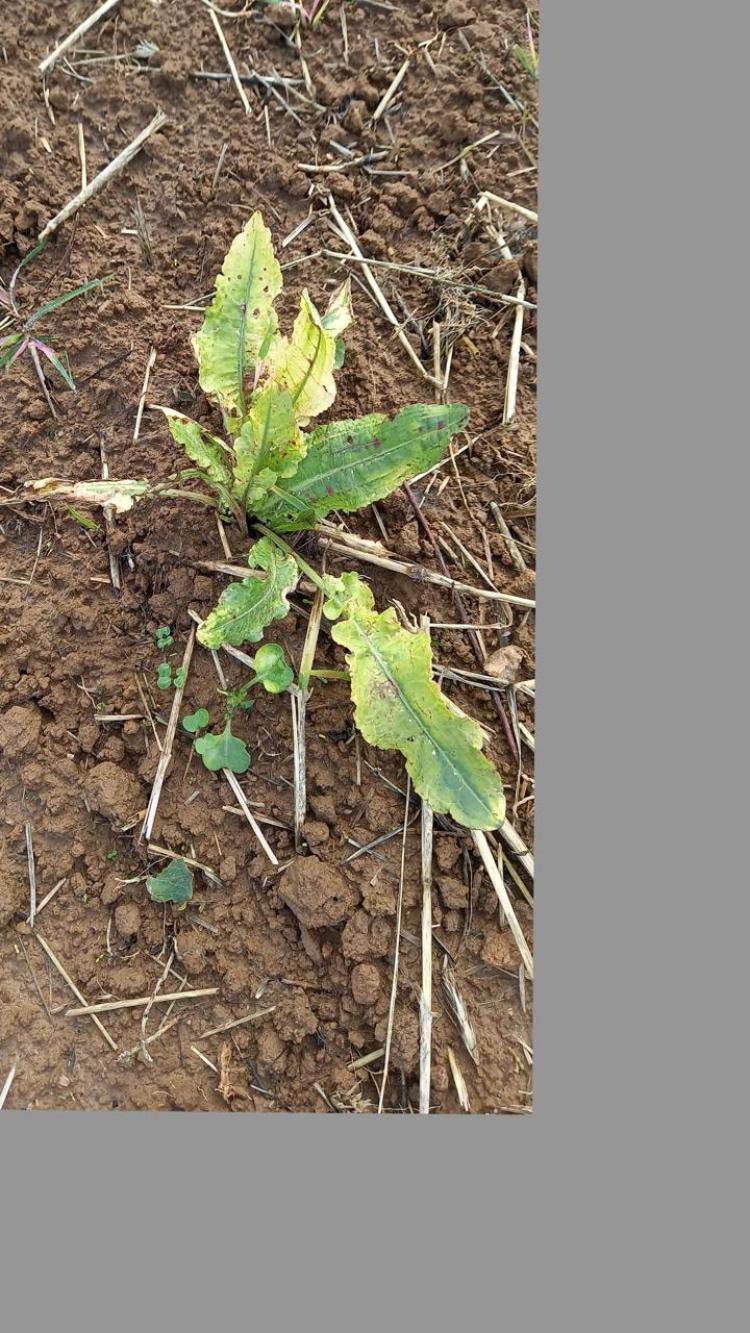zhavel: (158, 210, 514, 838)
